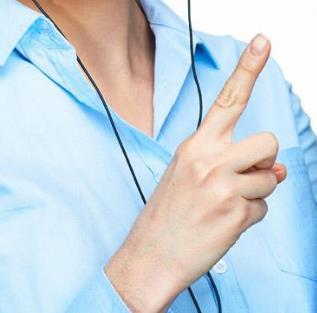up: (152, 29, 289, 279)
